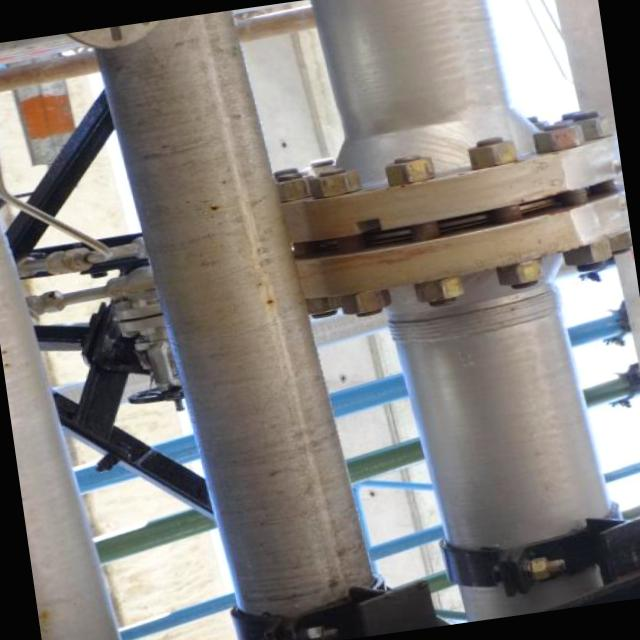gas: (298, 0, 631, 633), (78, 1, 374, 640)
